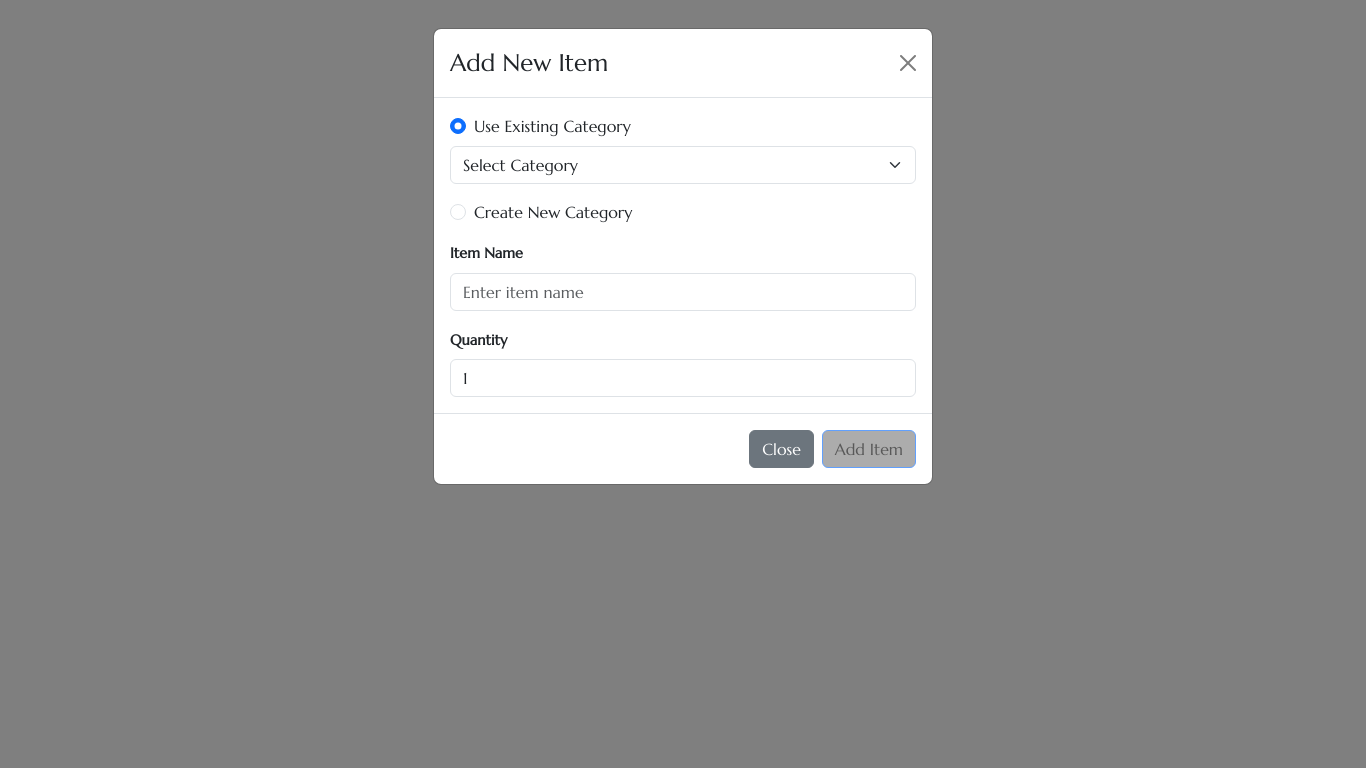
Test: NewItemModal Component › disables Add Item button with incomplete form
expect the button "Add Item" is disabled: met, box [822,430,916,468]
Fill out item name
In the field with placeholder "Enter item name": (683, 292) [450,273,916,311], type "Test Item"
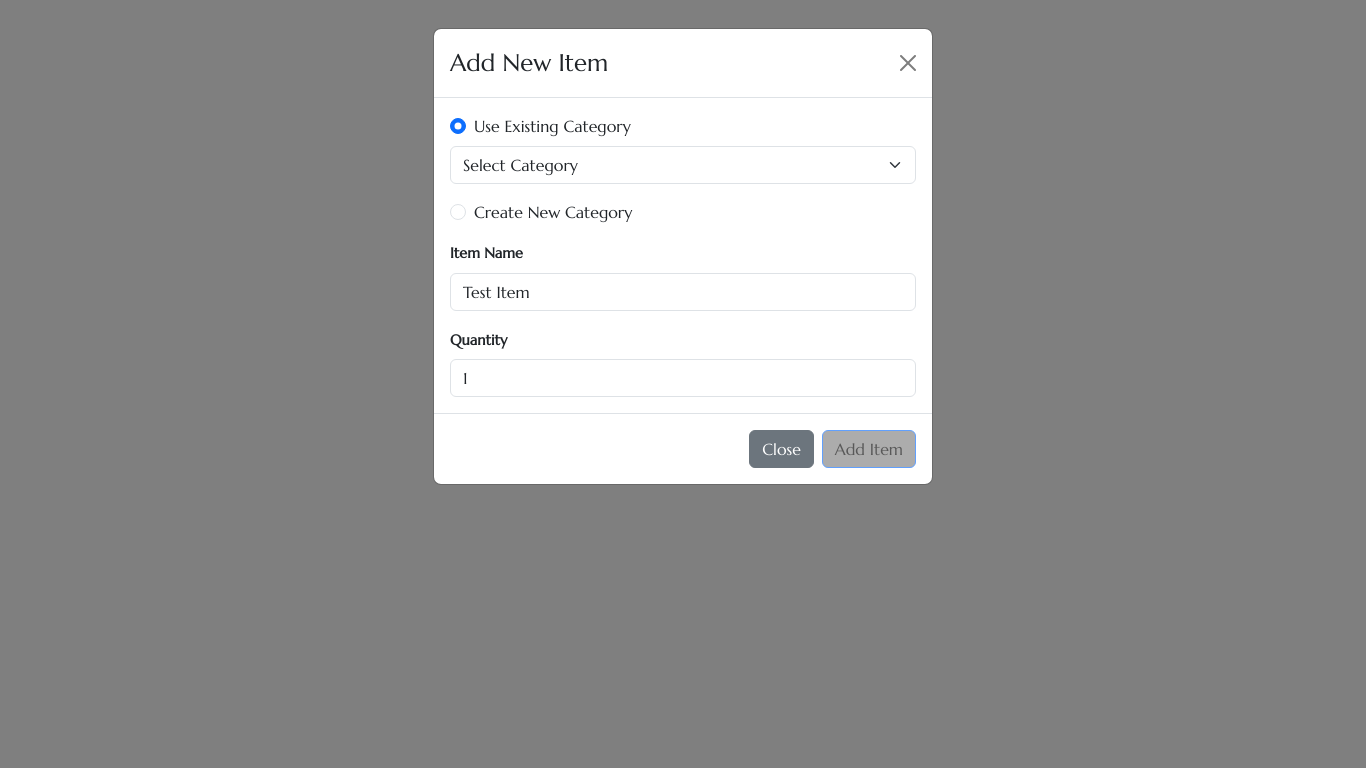
expect the button "Add Item" is disabled: met, box [822,430,916,468]
Select an existing category
Select "Clothing" in the dropdown: (683, 165) [450,146,916,184]
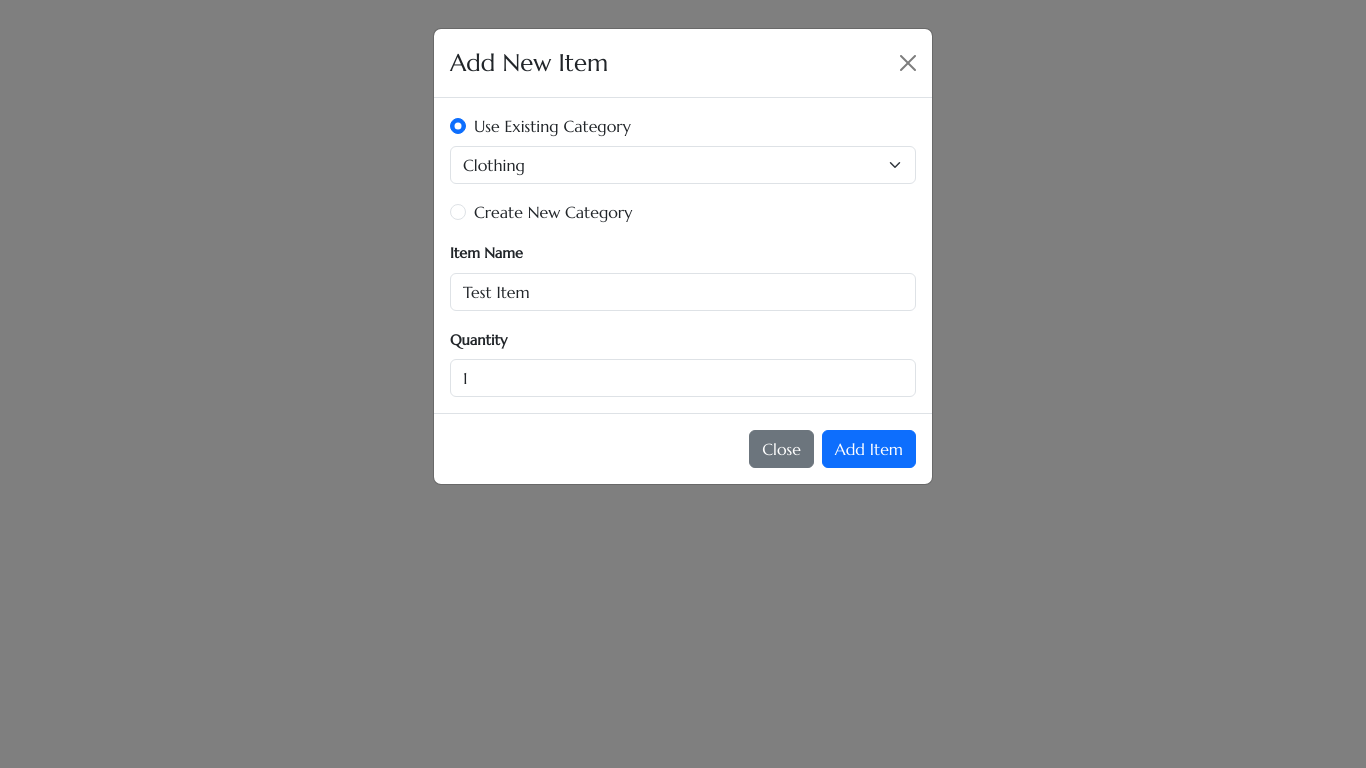
expect the button "Add Item" is enabled: met, box [822,430,916,468]
